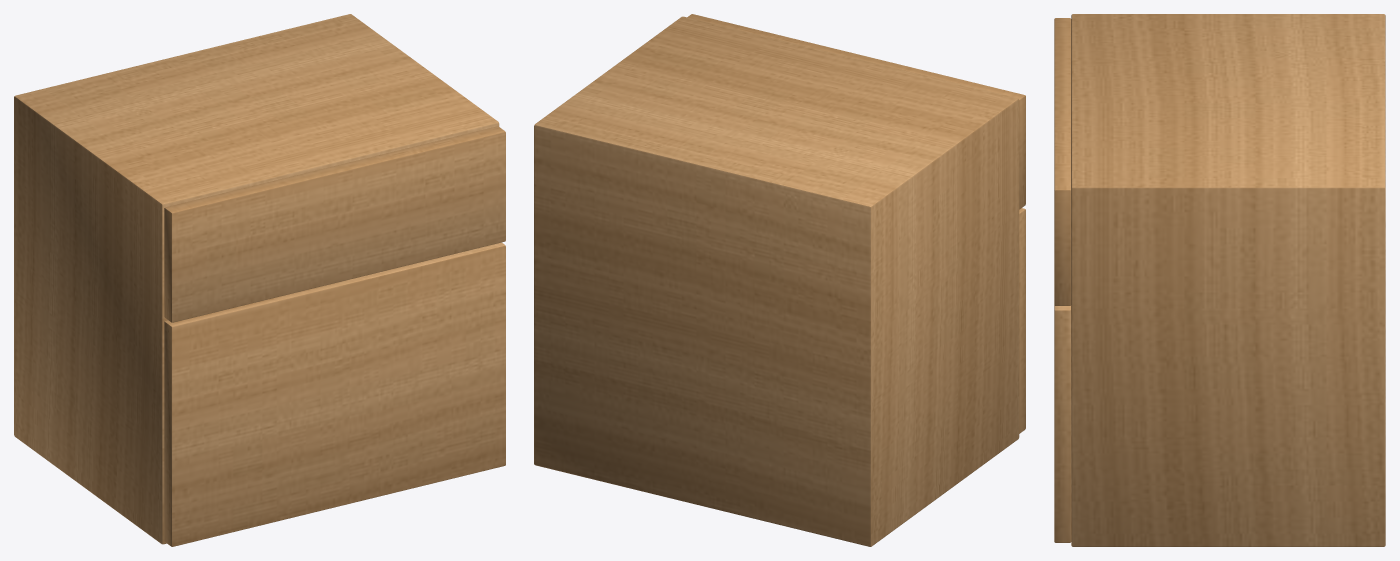
The model's file is recDv5fDMYhwt754A.glb.
The picture shows the model from 3 angles, left to right: view 1: azimuth 30°, elevation 25°; view 2: azimuth 150°, elevation 25°; view 3: azimuth 270°, elevation 25°; orthographic projection. The views are drawn at different scales.
Parts seen in each view (by area): view 1: chevet_chambre_etage_1_Corps; view 2: chevet_chambre_etage_1_Corps; view 3: chevet_chambre_etage_1_Corps.
Part boxes in pixels (left/top/right/bottom): chevet_chambre_etage_1_Corps: left=14, top=14, right=505, bottom=546; chevet_chambre_etage_1_Corps: left=534, top=14, right=1025, bottom=546; chevet_chambre_etage_1_Corps: left=1054, top=14, right=1385, bottom=546.
Bounding box in the file's own units: 0.435 × 0.42 × 0.35.
Materials: 1 (1 with a texture image).
